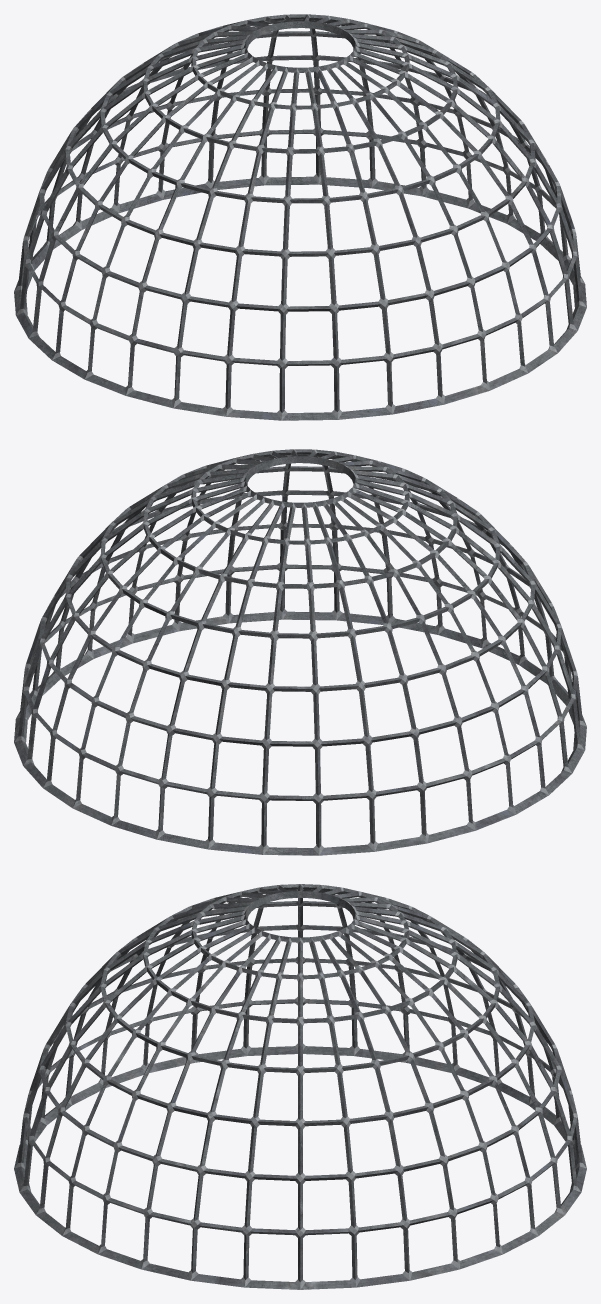
Rendered from mdl_duc_sci_planetariumroof.glb.
3 renders of one model, top to bottom at view 1: azimuth 30°, elevation 25°; view 2: azimuth 150°, elevation 25°; view 3: azimuth 270°, elevation 25°, orthographic.
Visible parts, largest first — view 1: WireFrame SemiSphere, Frame Connectors; view 2: WireFrame SemiSphere, Frame Connectors; view 3: WireFrame SemiSphere, Frame Connectors.
Boxes of the visible parts, bbox=[...] form: WireFrame SemiSphere: bbox=[14, 14, 586, 420]; Frame Connectors: bbox=[14, 14, 586, 420]; WireFrame SemiSphere: bbox=[14, 449, 586, 855]; Frame Connectors: bbox=[14, 449, 586, 855]; WireFrame SemiSphere: bbox=[14, 884, 586, 1289]; Frame Connectors: bbox=[14, 884, 586, 1289].
Bounding box in the file's own units: 2.05 × 1.01 × 2.05.
Materials: 2 (2 with a texture image).
